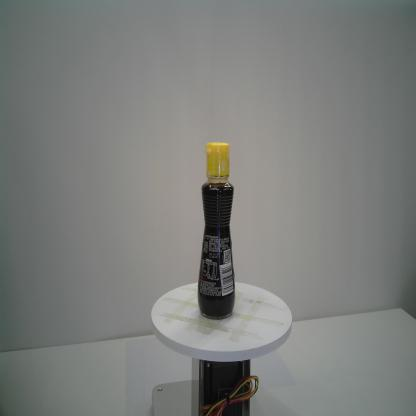Seasoner: (197, 141, 237, 320)
